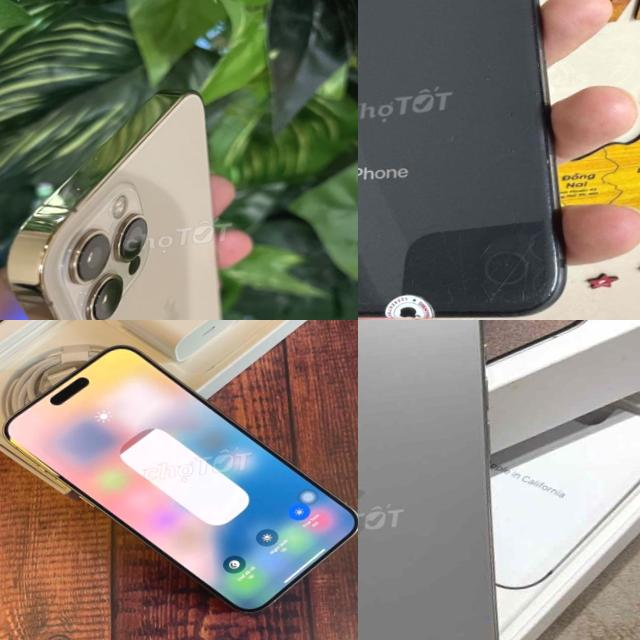scratch: (461, 218, 566, 316)
